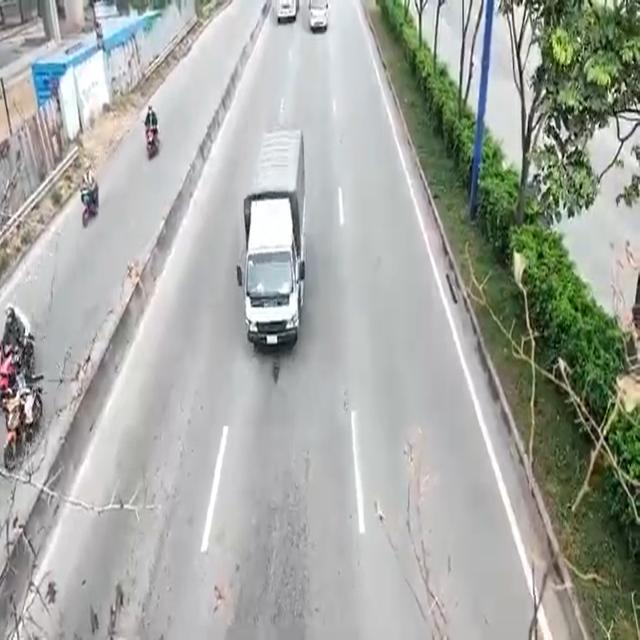motor: (3, 398, 42, 450), (1, 335, 32, 398), (80, 188, 98, 224), (144, 125, 160, 160)
truck: (247, 129, 303, 356)
